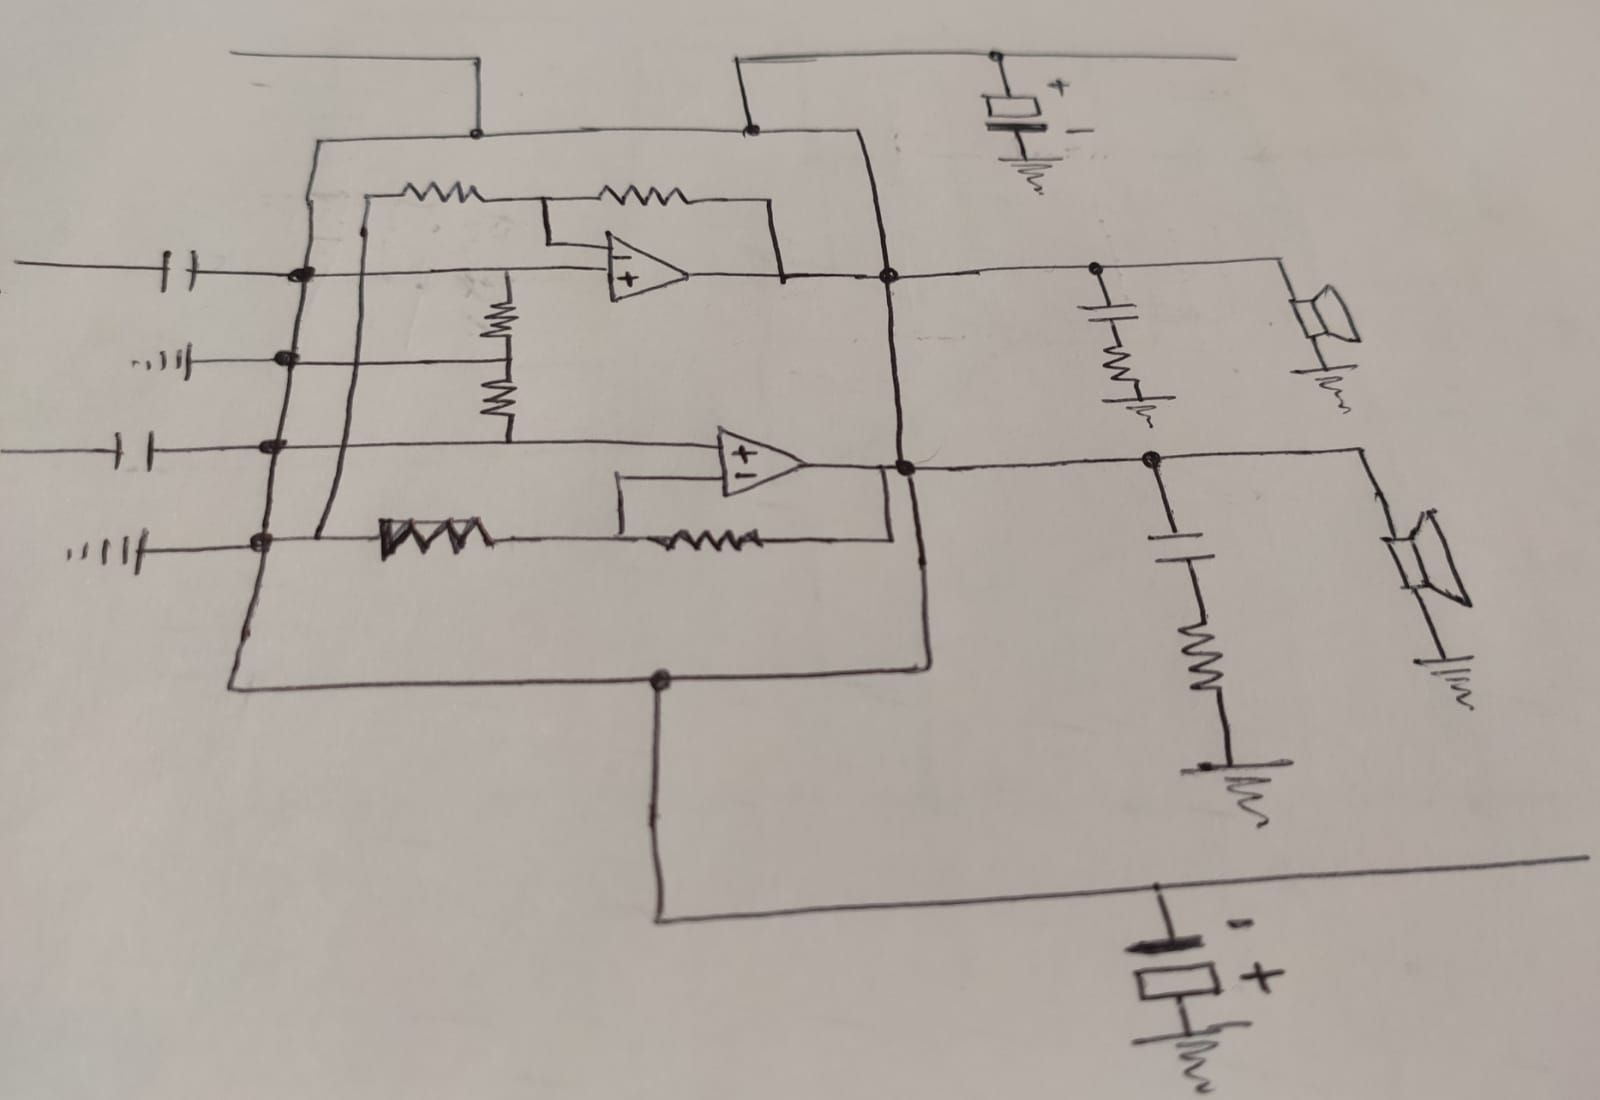capacitor.polarized: (1117, 912, 1281, 1003), (980, 75, 1095, 140)
capacitor.unpolarized: (1147, 525, 1215, 570), (154, 246, 202, 293), (108, 428, 159, 472), (1075, 297, 1142, 326)
gnd: (1122, 1019, 1262, 1100), (1181, 754, 1298, 833), (1412, 651, 1478, 713), (64, 528, 153, 574), (1291, 361, 1359, 412), (998, 150, 1063, 199), (124, 339, 198, 380), (1099, 391, 1171, 425)
junction: (864, 250, 908, 305), (240, 523, 283, 563), (1131, 441, 1173, 479), (252, 431, 294, 467), (888, 449, 924, 487), (642, 662, 678, 698), (267, 345, 308, 377), (283, 261, 321, 290), (643, 903, 676, 933), (911, 651, 940, 683), (737, 115, 766, 142), (216, 673, 243, 703), (1082, 256, 1110, 283), (463, 122, 492, 146), (1144, 874, 1171, 899), (871, 458, 895, 484), (982, 43, 1007, 67), (345, 352, 368, 378), (771, 265, 795, 288), (350, 265, 376, 286), (306, 528, 329, 549), (612, 525, 633, 548), (533, 190, 554, 211), (609, 468, 631, 489), (539, 235, 560, 255), (1350, 441, 1371, 462), (333, 438, 355, 458), (466, 51, 489, 70), (727, 51, 748, 72), (357, 188, 379, 208), (881, 530, 903, 549), (498, 433, 522, 451), (310, 132, 329, 153), (1268, 252, 1290, 270), (849, 122, 868, 141), (498, 352, 522, 368), (497, 266, 516, 284), (759, 194, 777, 211)
operational_amplifier: (595, 225, 694, 304), (712, 421, 809, 498)
resistor: (374, 512, 492, 558), (1174, 615, 1223, 693), (653, 524, 766, 553), (588, 179, 684, 205), (396, 177, 486, 205), (479, 370, 517, 419), (480, 298, 522, 342), (1099, 342, 1139, 383)
speaker: (1378, 510, 1474, 610), (1286, 282, 1363, 342)
terminal: (1574, 846, 1596, 871), (9, 254, 30, 273), (220, 45, 243, 61), (1223, 51, 1243, 68), (1, 442, 19, 459)
